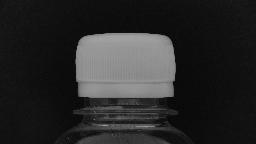Loose Cap: (70, 70, 182, 118)
